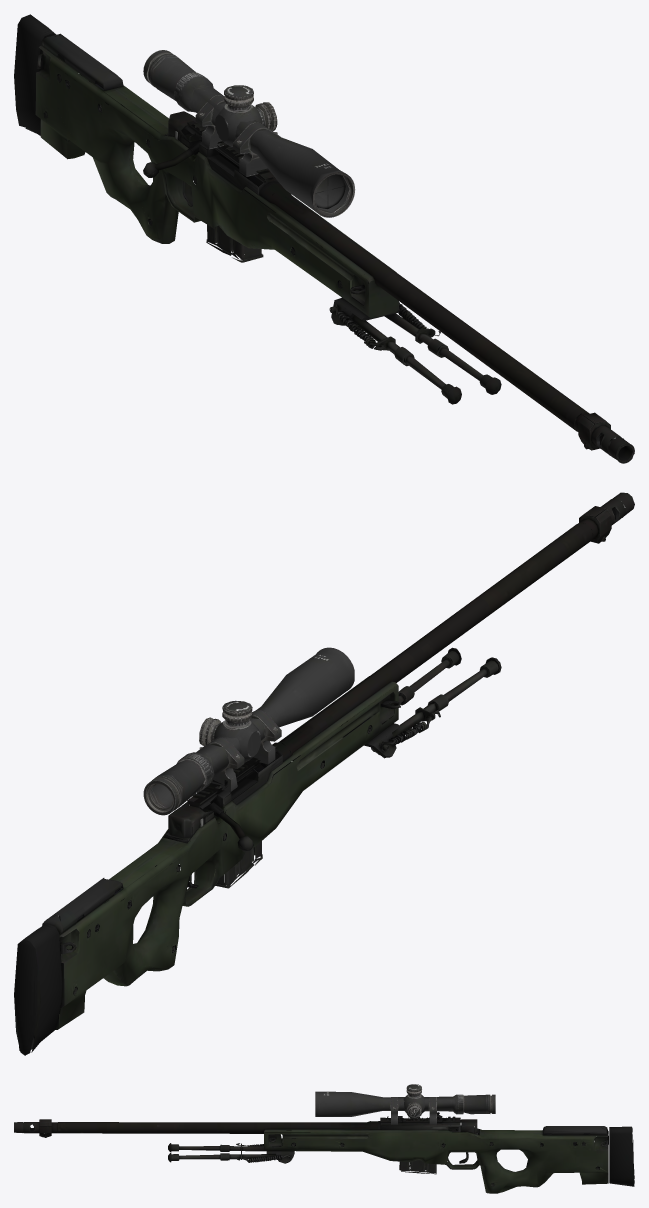
File: awp.glb
3 renders of one model, top to bottom at view 1: azimuth 30°, elevation 25°; view 2: azimuth 150°, elevation 25°; view 3: azimuth 270°, elevation 25°, orthographic. The views are drawn at different scales.
Parts seen in each view (by area): view 1: Object_9_1, Object_4_1, Cylinder001_02_-_Default_0_1, Object_2_2, Object_5_1, Object_6_2, Object_8_1, Object_7_1, Object_3_1; view 2: Object_9_1, Object_4_1, Cylinder001_02_-_Default_0_1, Object_6_2, Object_5_1, Object_2_2, Object_8_1, Object_7_1, Object_3_1; view 3: Object_7_1, Object_4_1, Cylinder001_02_-_Default_0_1, Object_2_2, Object_3_1, Object_6_2, Object_5_1, Object_8_1, Object_9_1.
Boxes of the visible parts, x1,y1,x2,y2 form: Object_9_1: (68,81,603,442); Object_4_1: (36,46,611,455); Cylinder001_02_-_Default_0_1: (143,50,355,217); Object_2_2: (35,51,634,461); Object_5_1: (43,62,611,456); Object_6_2: (14,14,501,400); Object_8_1: (41,34,634,463); Object_7_1: (41,54,621,456); Object_3_1: (35,72,603,449); Object_9_1: (97,515,611,986); Object_4_1: (59,502,625,992); Cylinder001_02_-_Default_0_1: (143,647,354,815); Object_6_2: (14,647,501,1055); Object_5_1: (73,506,626,992); Object_2_2: (59,492,634,1028); Object_8_1: (44,498,623,934); Object_7_1: (61,499,625,961); Object_3_1: (59,515,599,1005); Object_7_1: (23,1116,584,1193); Object_4_1: (39,1116,608,1192); Cylinder001_02_-_Default_0_1: (315,1084,495,1124); Object_2_2: (14,1116,608,1184); Object_3_1: (39,1114,608,1174); Object_6_2: (168,1119,634,1186); Object_5_1: (45,1112,608,1185); Object_8_1: (22,1117,607,1162); Object_9_1: (39,1117,600,1185).
Bounding box in the file's own units: 0.0978 × 0.2182 × 1.16.
3 materials, 3 textured.
